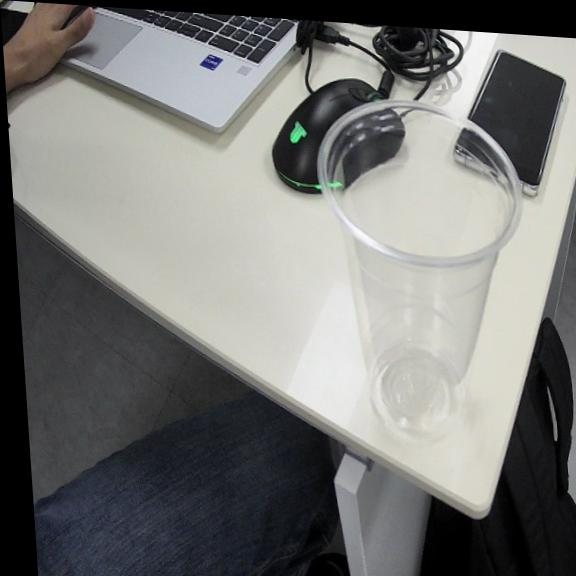Plastik: (317, 101, 521, 438)
